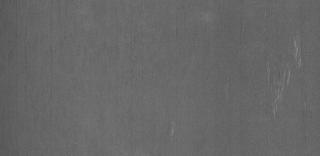silk spot: (240, 32, 308, 122)
